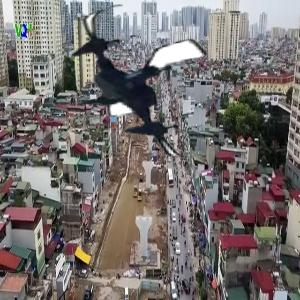drone: (58, 2, 222, 166)
